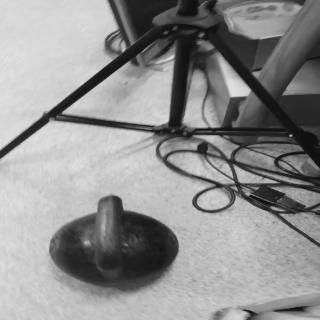girya: (52, 196, 180, 287)
